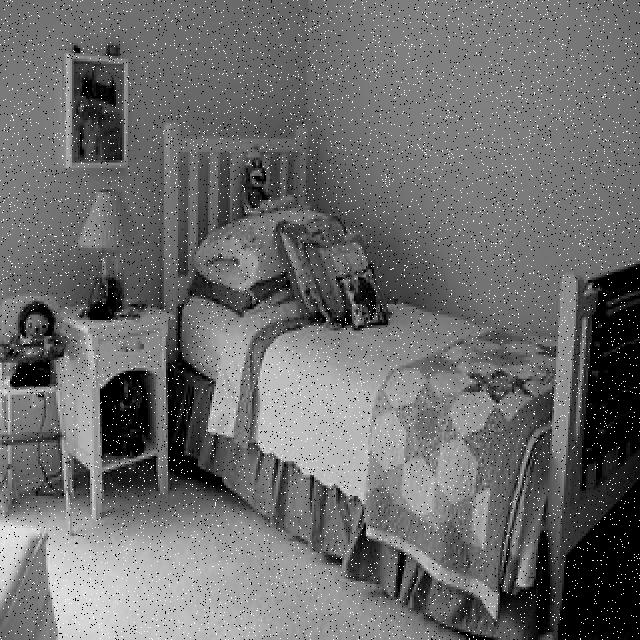bed: (174, 127, 640, 624)
